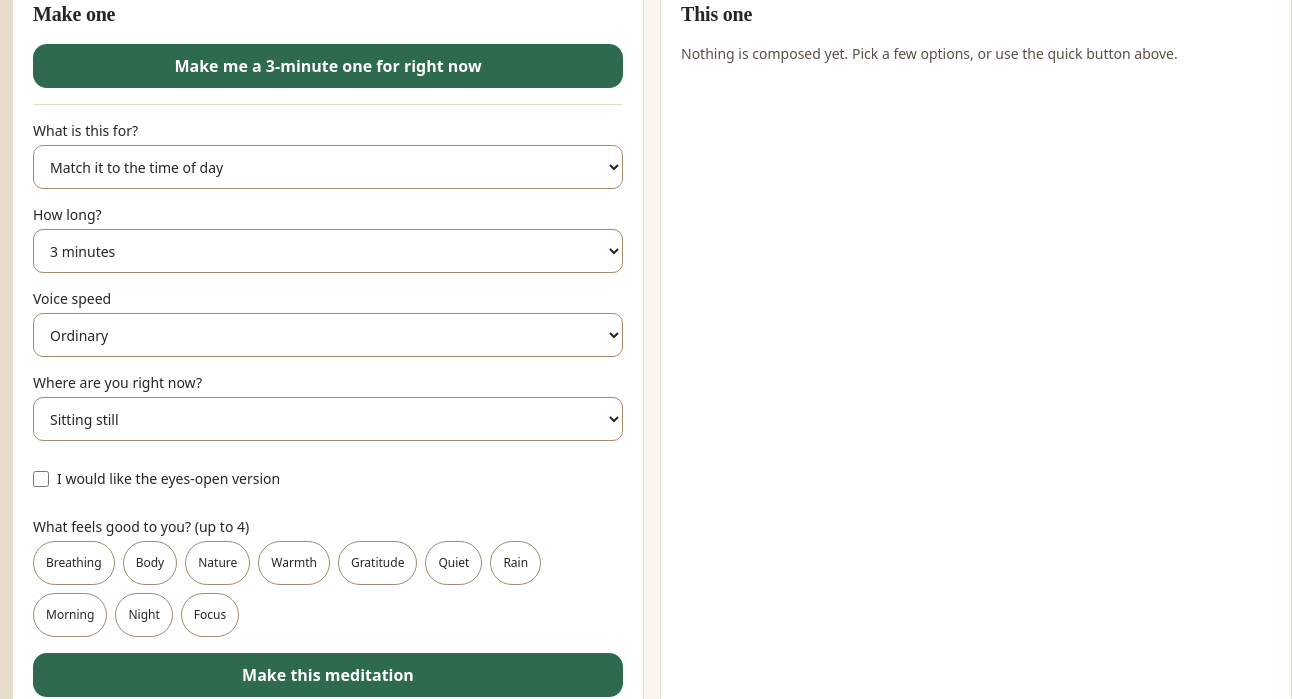
Test: MeditationView › saves a favourite to the local library and lists it
This screenshot has width=1292, height=699.
Click the button "Make me a 3-minute one for right now". click: click(328, 66)
box: [33, 44, 623, 88]
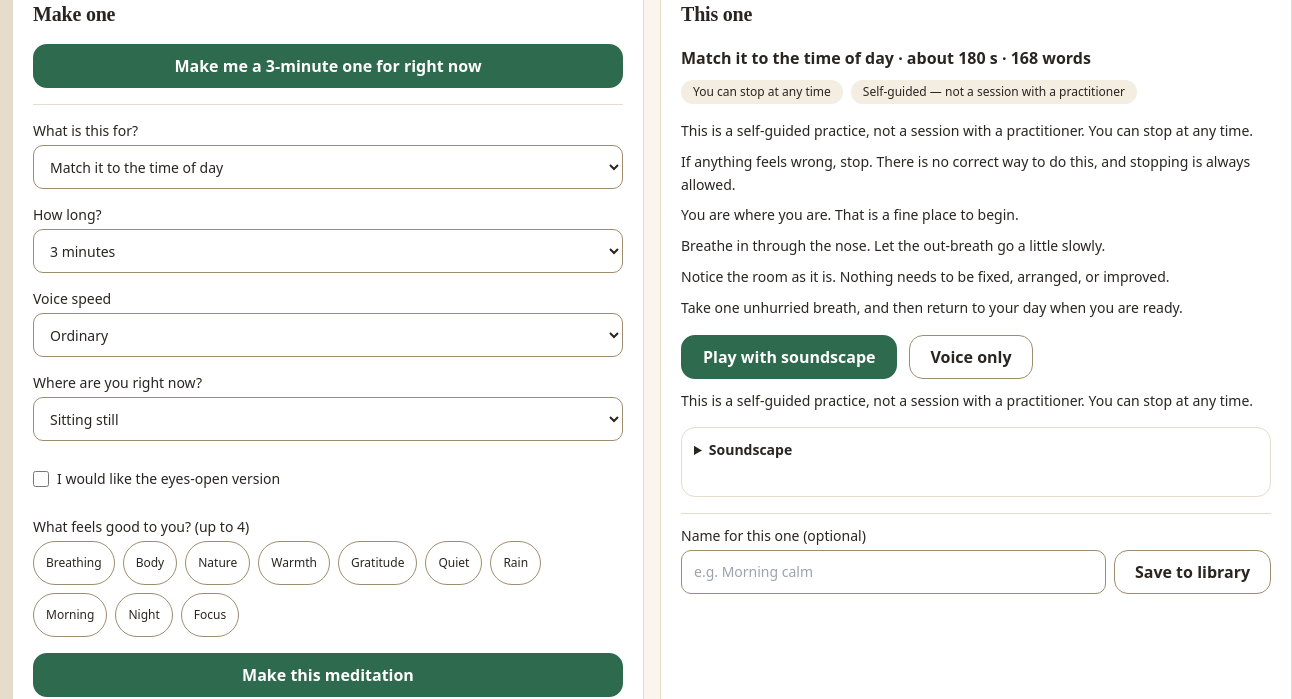
Now the text with test id "section-preface" is shown, box [681, 120, 1271, 143]
Type "Morning calm" into the field labelled "Name for this one (optional)". click: (893, 572)
box: [681, 550, 1106, 594]
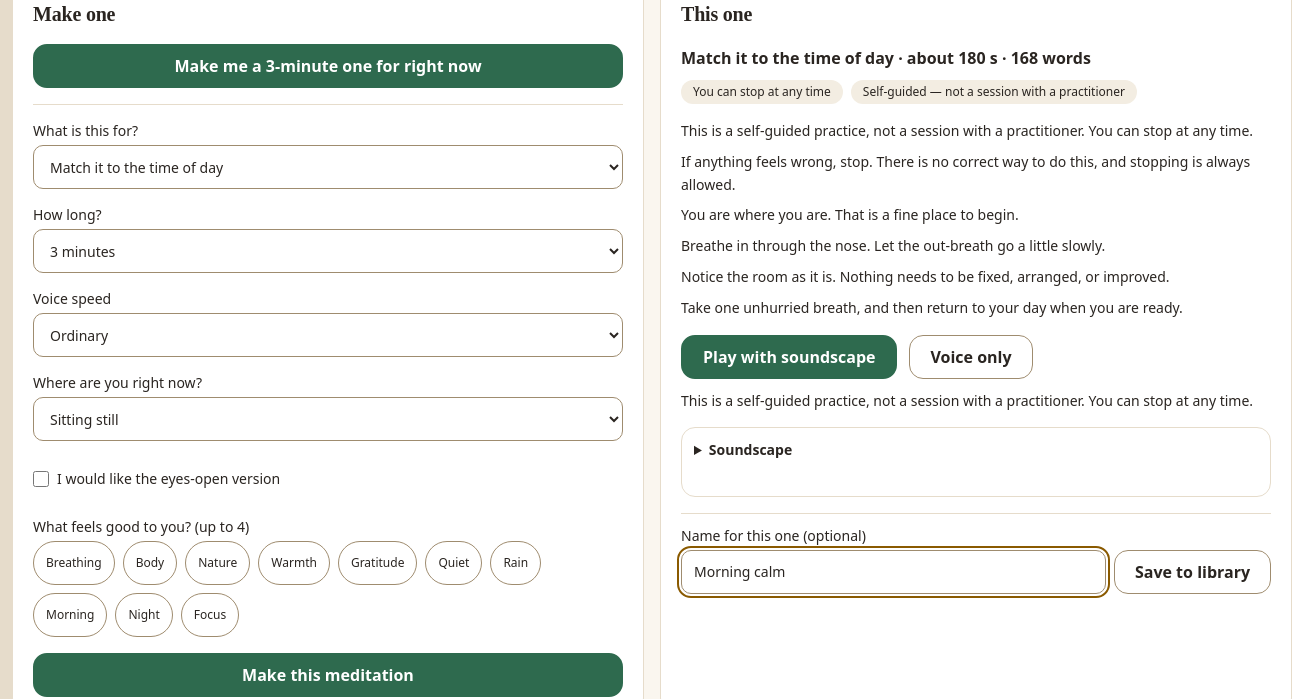
Click the button "Save to library". click: click(1192, 572)
box: [1114, 550, 1271, 594]
(page scrolled)
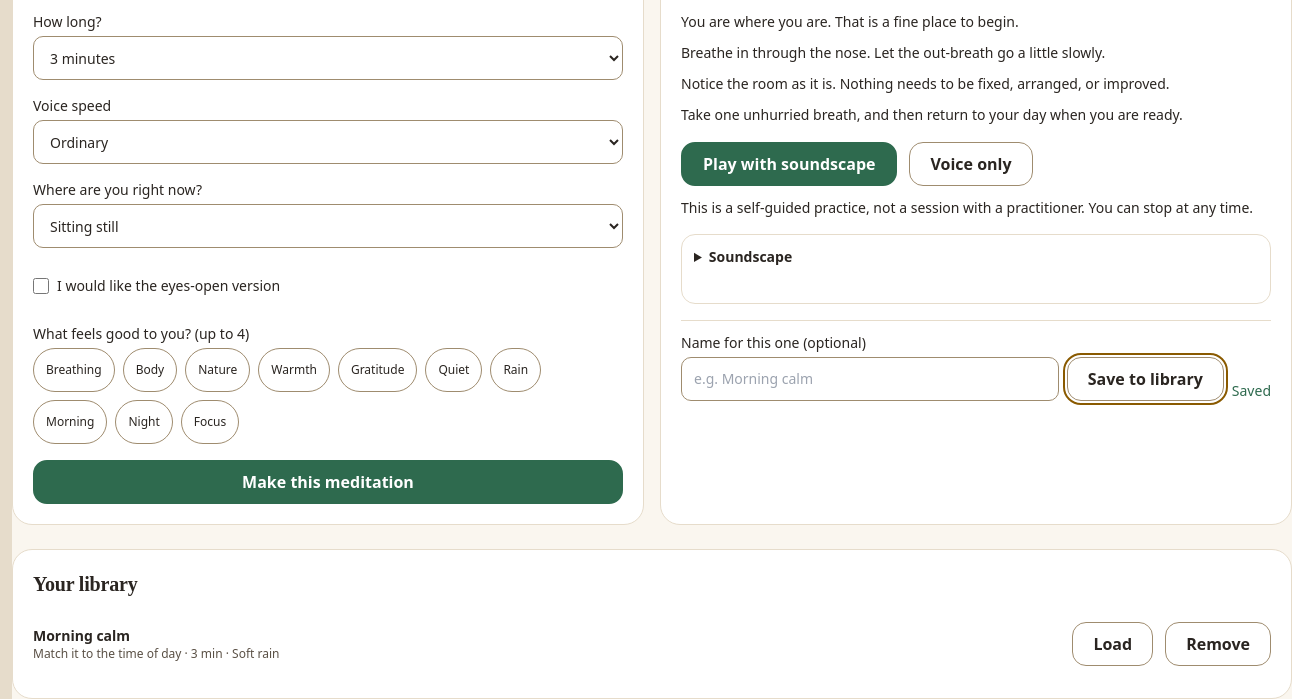
Now the text "Morning calm" is shown, box [33, 626, 130, 645]
And it can be removed again.
Click the button "Remove". click: click(1218, 644)
box: [1165, 622, 1271, 666]
(page scrolled)
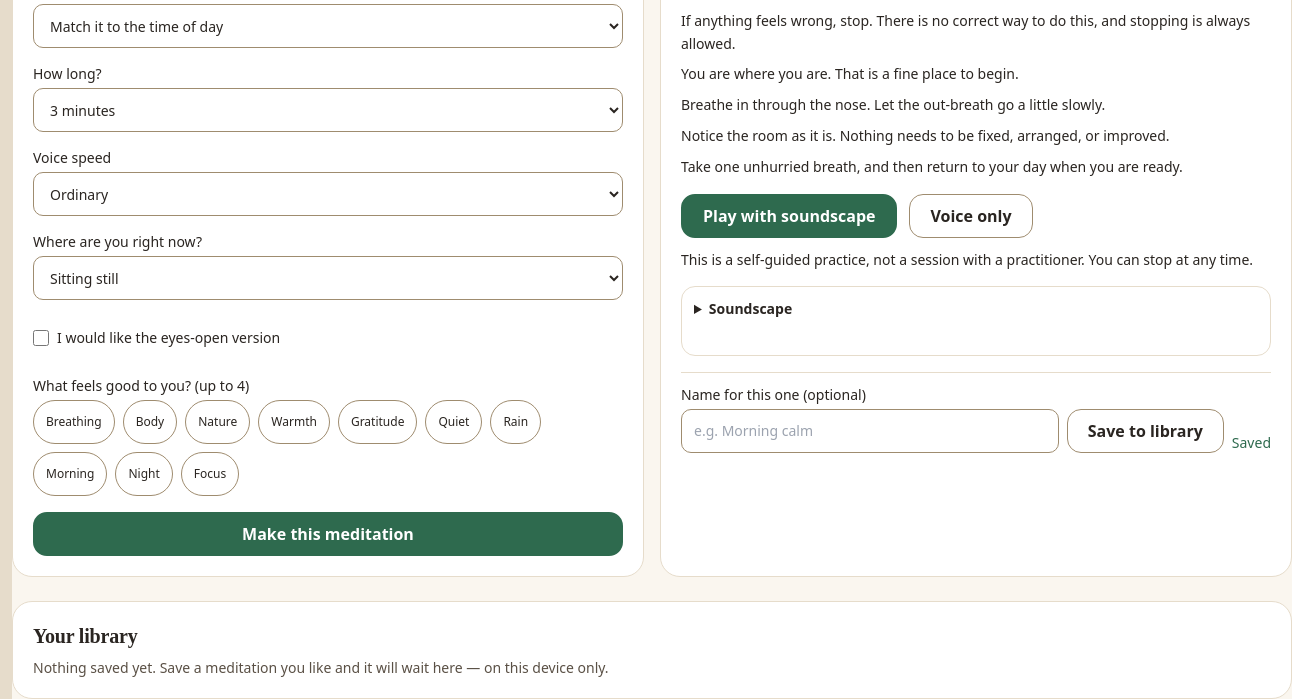
Now the text "Nothing saved yet" is shown, box [33, 658, 609, 677]
